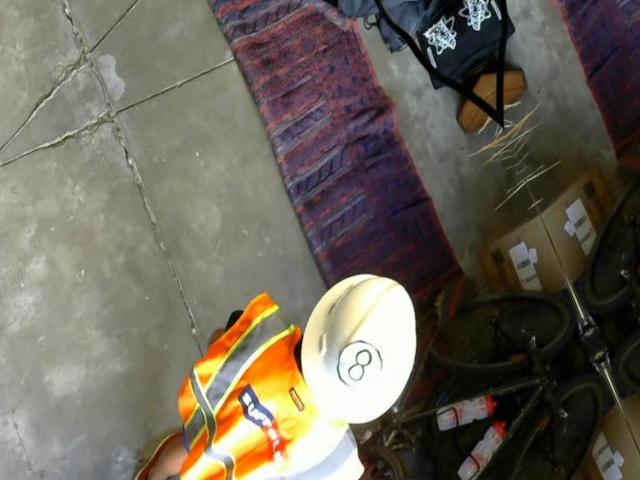eight: (329, 324, 391, 404)
